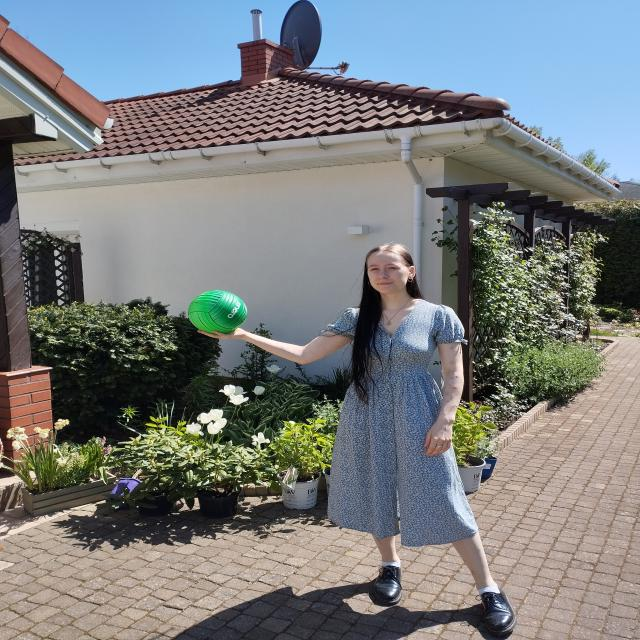zielona: (189, 290, 249, 334)
